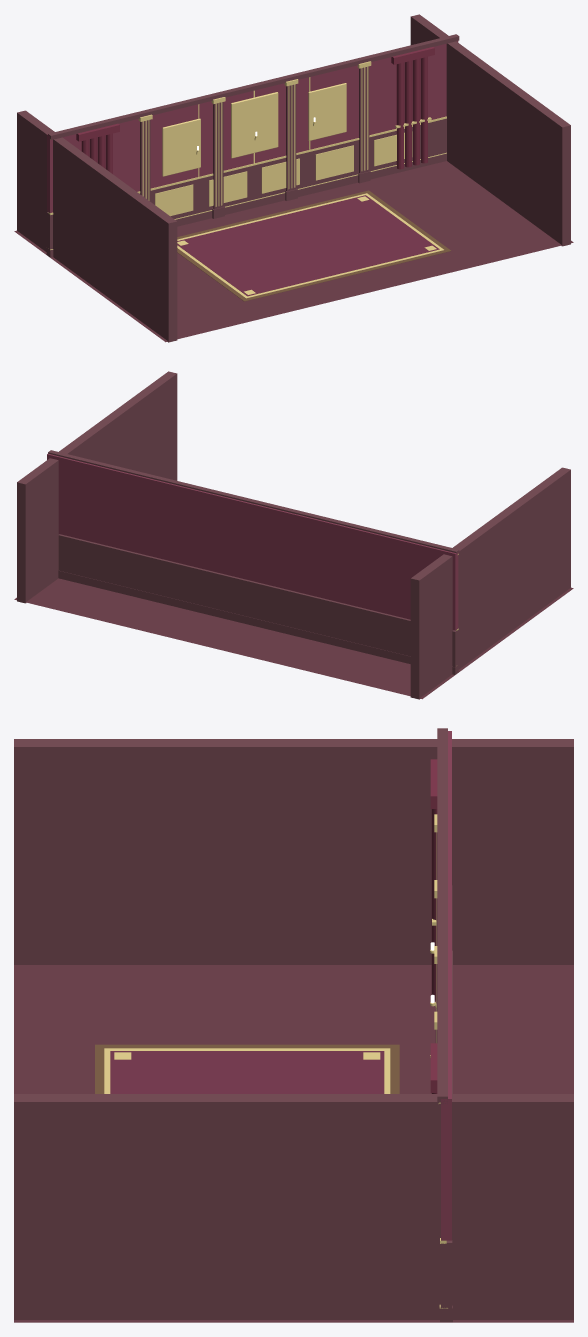
The model's file is room_dama_salon.glb.
The picture shows the model from 3 angles, top to bottom: view 1: azimuth 30°, elevation 25°; view 2: azimuth 150°, elevation 25°; view 3: azimuth 270°, elevation 25°; orthographic projection. The views are drawn at different scales.
Parts seen in each view (by area): view 1: Floor, SideWall_Left, SideWall_Right, ClubRug_Inner, BackWall_Upper, BackWall_Lower, CrownMolding, FrameOuter_CenterGrandArt, ClubRug_Outer, FrameOuter_RightArt, FrameOuter_LeftArt, Baseboard (+15 smaller); view 2: BackWall_Upper, SideWall_Left, BackWall_Lower, Floor, SideWall_Right, Baseboard, CrownMolding; view 3: SideWall_Right, SideWall_Left, Floor, ClubRug_Inner, CrownMolding, BackWall_Upper, ClubRug_Outer, ClubRug_Stripe, BackWall_Lower, DraperyFold_Left_3.
Part boxes in pixels (x1,y1,x2,y2): Floor: (14,161,573,342); SideWall_Left: (17,110,177,342); SideWall_Right: (410,14,570,246); ClubRug_Inner: (177,195,439,296); BackWall_Upper: (47,41,458,212); BackWall_Lower: (47,118,446,249); CrownMolding: (48,34,459,139); FrameOuter_CenterGrandArt: (231,92,278,158); ClubRug_Outer: (177,190,450,301); FrameOuter_RightArt: (308,83,346,140); FrameOuter_LeftArt: (162,118,200,176); Baseboard: (46,153,446,257); BackWall_Upper: (47,453,458,630); SideWall_Left: (410,467,570,699); BackWall_Lower: (58,534,458,667); Floor: (14,578,573,699); SideWall_Right: (17,371,177,603); Baseboard: (58,570,458,674); CrownMolding: (48,450,459,553); SideWall_Right: (14,1094,573,1319); SideWall_Left: (14,739,573,964); Floor: (14,965,573,1322); ClubRug_Inner: (110,1051,384,1093); CrownMolding: (437,728,447,1104); BackWall_Upper: (441,731,451,1240); ClubRug_Outer: (95,1044,399,1093); ClubRug_Stripe: (104,1048,390,1093); BackWall_Lower: (440,885,452,1308); DraperyFold_Left_3: (431,809,437,1000).
Size of the model in its own units: 28 by 8.09 by 18.
